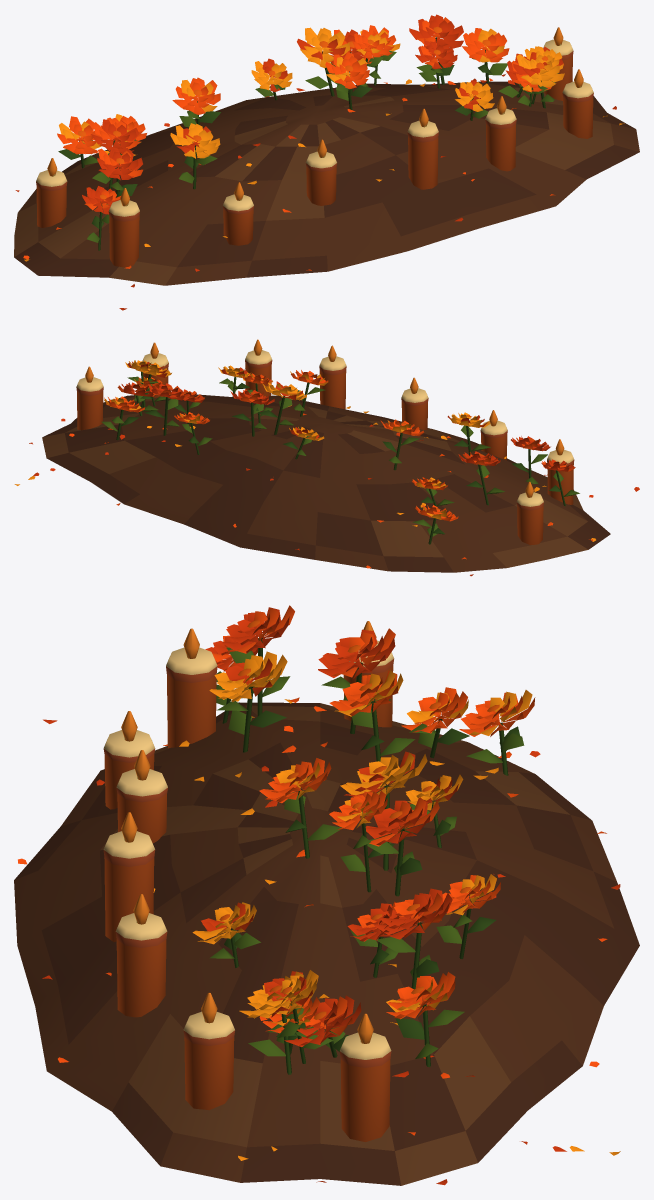
The model's file is monticulo_oriente.obj.
The picture shows the model from 3 angles, top to bottom: view 1: azimuth 30°, elevation 25°; view 2: azimuth 150°, elevation 25°; view 3: azimuth 270°, elevation 25°; orthographic projection. The views are drawn at different scales.
Parts seen in each view (by area): view 1: monticulo_oriente; view 2: monticulo_oriente; view 3: monticulo_oriente.
Boxes of the visible parts, box(x1,y1,x2,y2) form: monticulo_oriente: box(14, 14, 639, 310); monticulo_oriente: box(14, 339, 639, 576); monticulo_oriente: box(14, 605, 639, 1185).
Bounding box in the file's own units: 2.23 × 0.4482 × 1.21.
